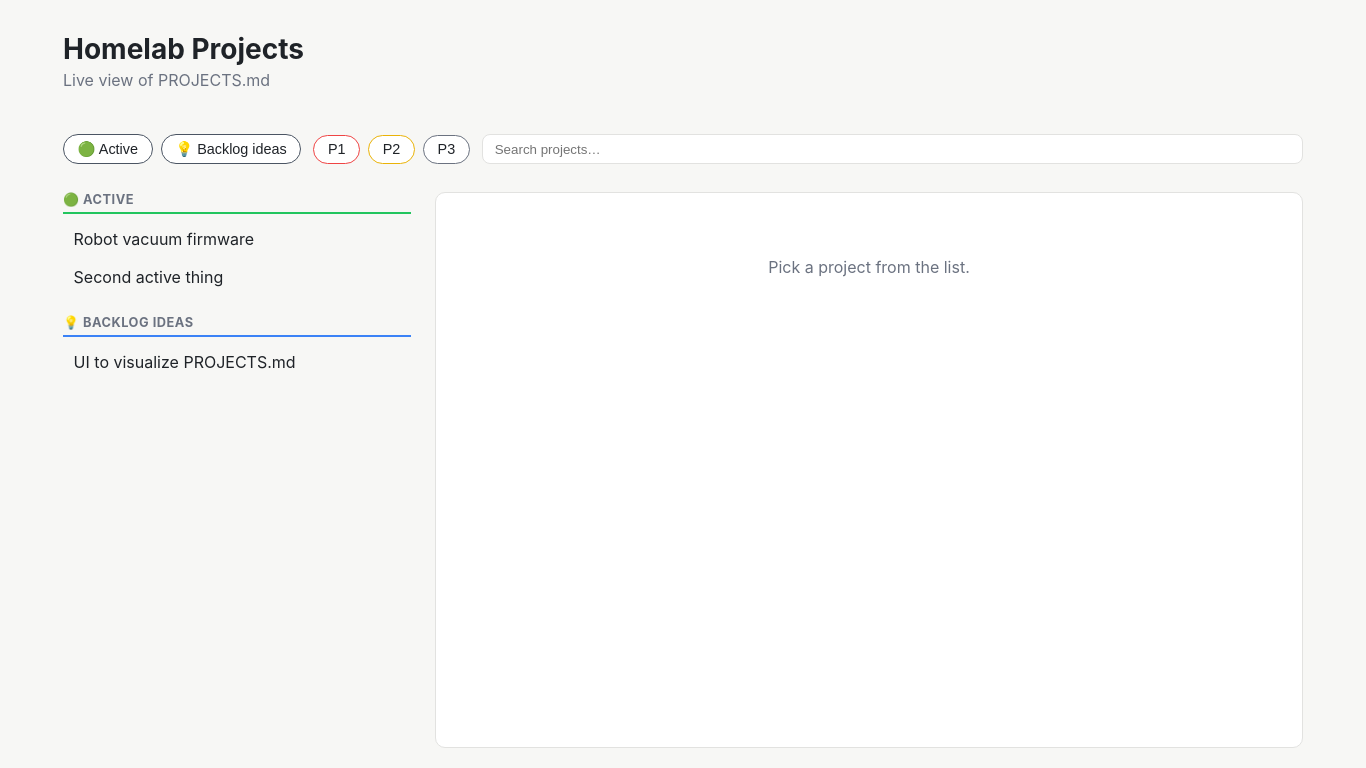
Test: App › shows the picked project in the detail pane and marks it in the list
The image size is (1366, 768).
Expected: the text "Robot vacuum firmware" is shown, top-left (74, 229), bottom-right (254, 249)
Click the button "Robot vacuum firmware" at (237, 239), box top-left (63, 220), bottom-right (411, 257)
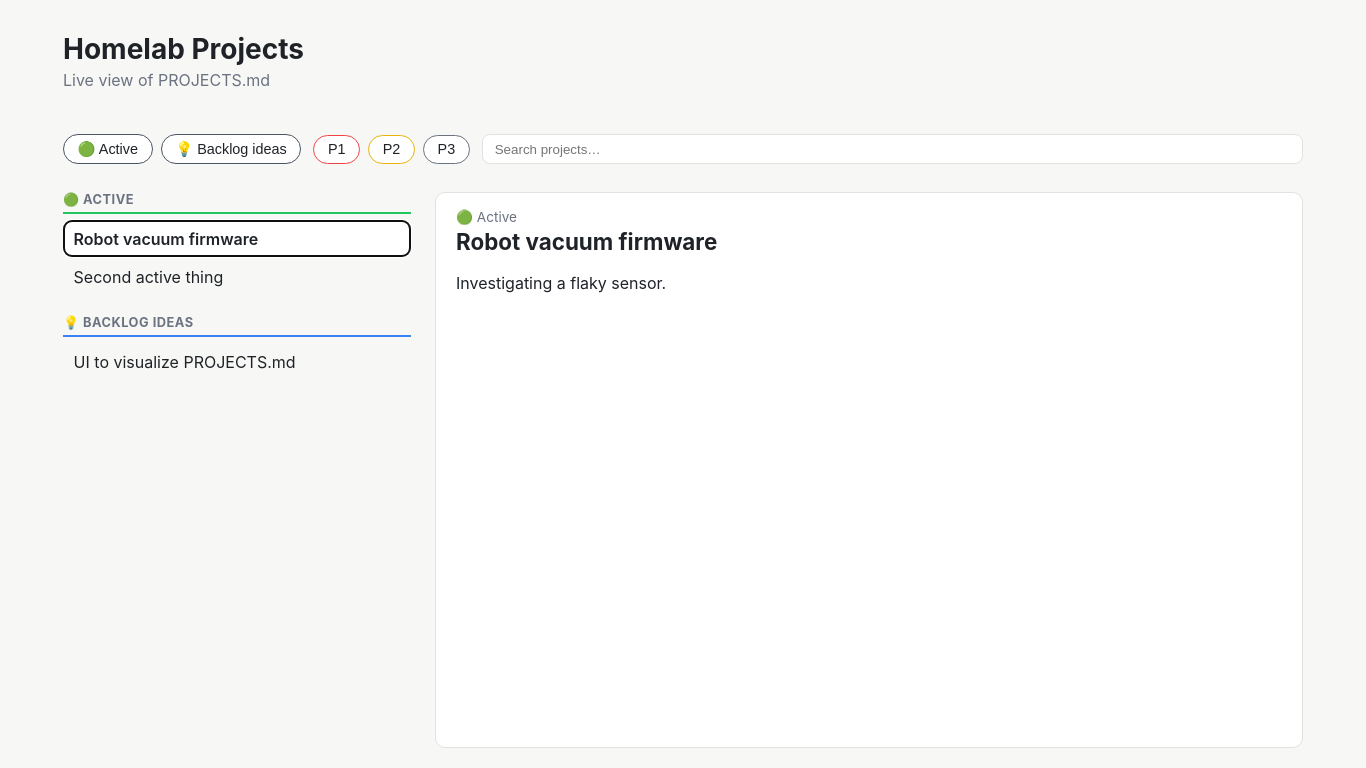
Result: the heading "Robot vacuum firmware" is shown at top-left (456, 228), bottom-right (717, 255)
Result: the text "Investigating a flaky sensor." is shown at top-left (456, 273), bottom-right (666, 293)
Result: the text "🟢 Active" is shown at top-left (456, 209), bottom-right (517, 225)
